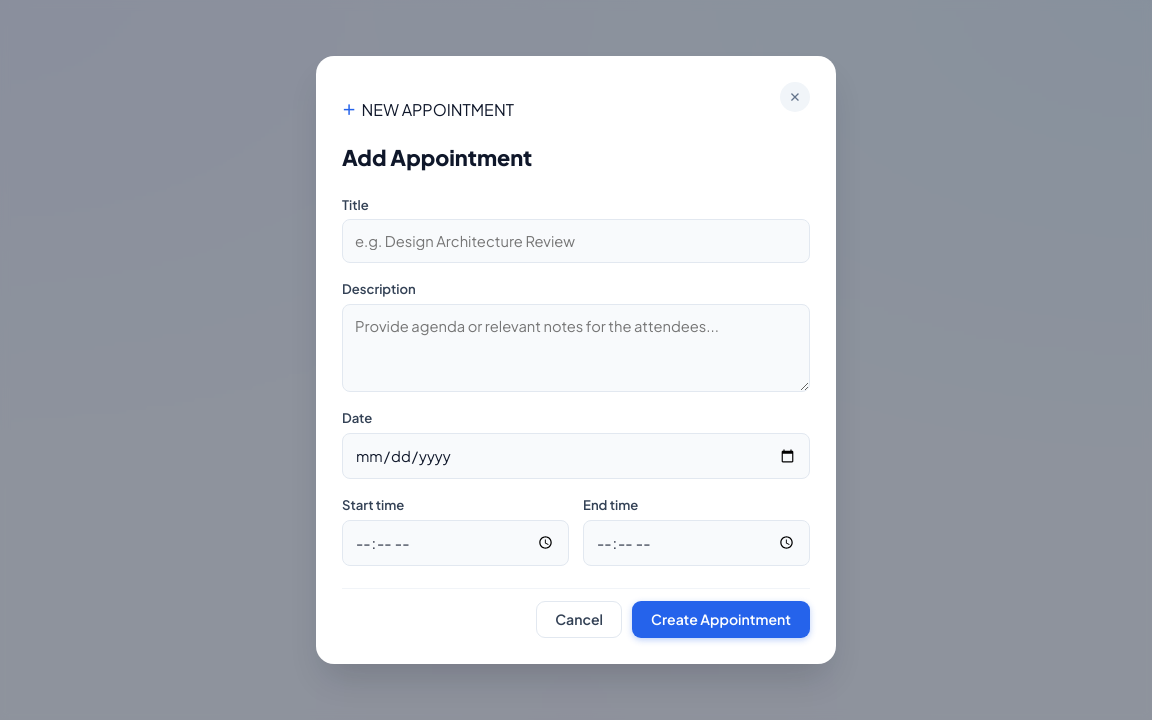
Test: AppointmentForm › validates required title
This screenshot has width=1152, height=720.
Click the button "Create Appointment": (721, 619) [632,601,810,638]
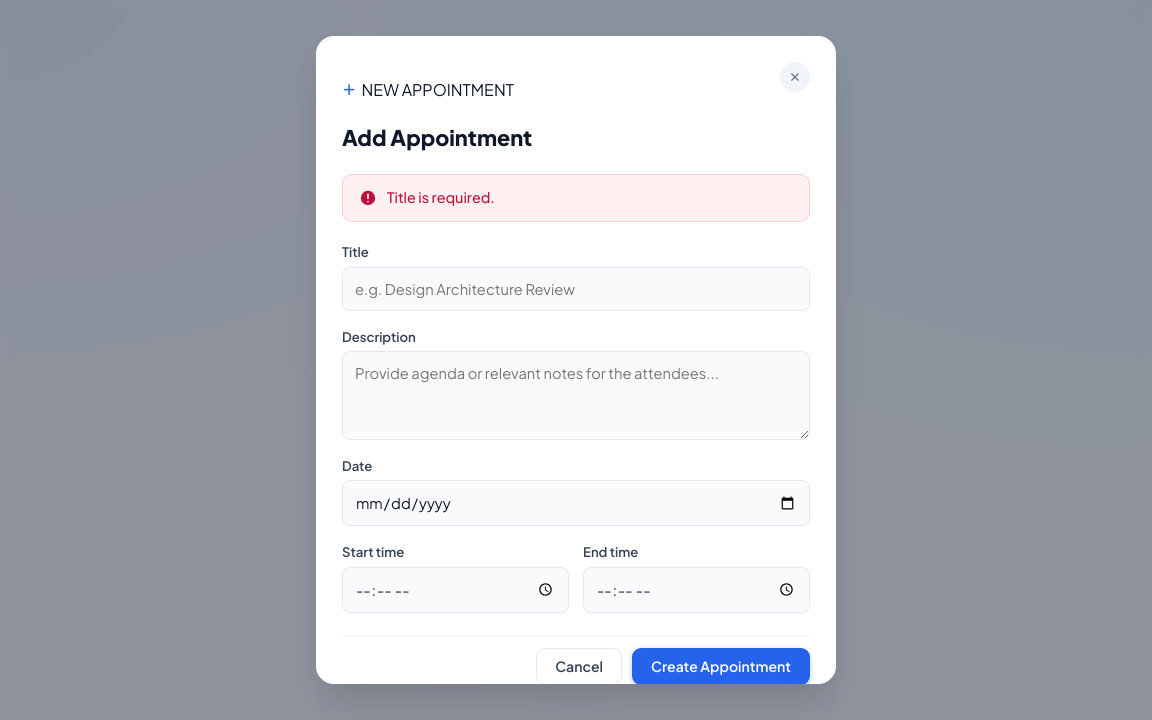
Result: the message reads "Title is required." at [387,188,495,206]
